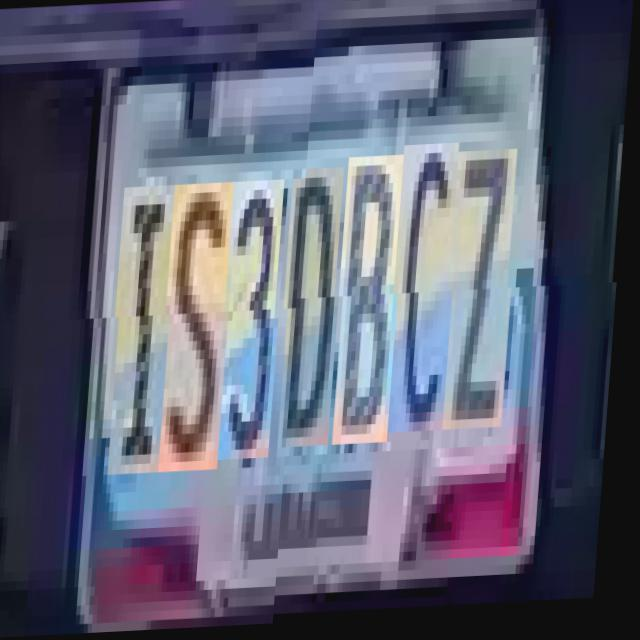3: (225, 182, 292, 463)
B: (339, 168, 410, 458)
C: (394, 156, 466, 446)
D: (284, 180, 351, 461)
I: (116, 186, 186, 476)
S: (166, 185, 242, 474)
Z: (449, 163, 524, 444)
